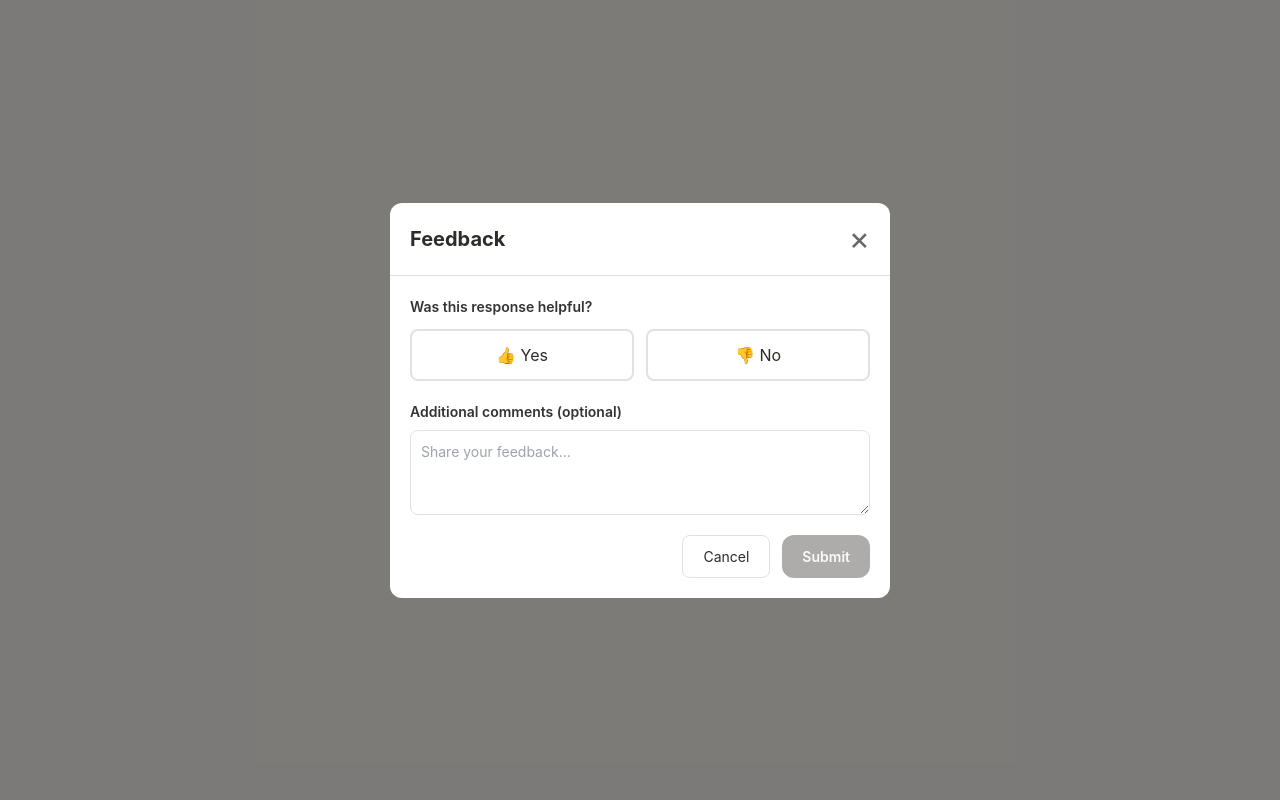
Test case: FeedbackModal › rating selection › selects negative rating when No clicked
Click the button "👎 No" at x=758, y=354, box [646, 328, 870, 380]
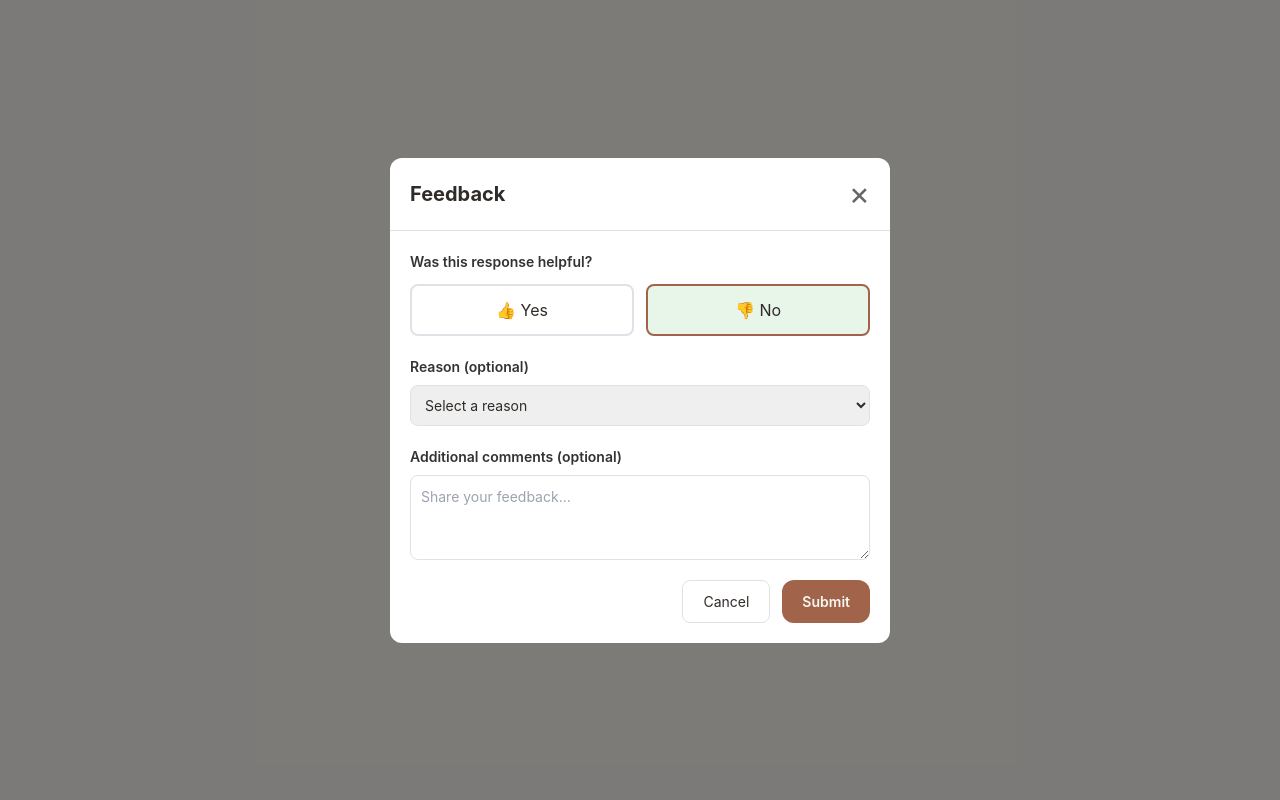
Now the button "Submit" is enabled, box [782, 580, 870, 622]
